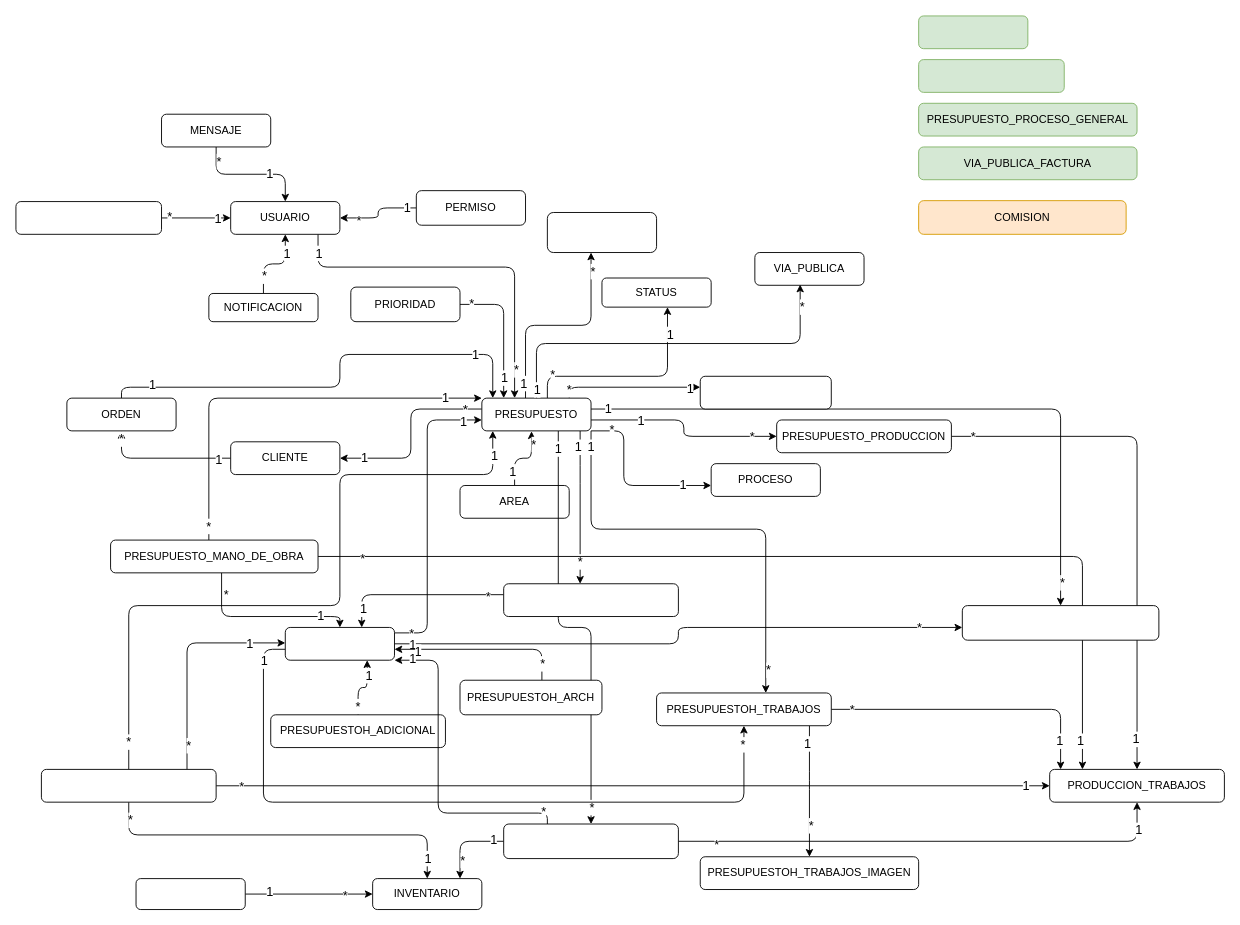
The diagram is 1240 pixels wide and 925 high, and some of its shapes have lost their labels. Here are the shapes that lost their labels. From the top down, the box of each, then its label:
(918, 15, 1028, 49): ORDENH
(918, 59, 1064, 92): ORDENH_DEPRECATED
(15, 201, 162, 234): MENSAJE_VIA_PUBLICA
(546, 212, 657, 253): FACTURA
(699, 375, 831, 409): PROCESO_GENERAL
(503, 583, 678, 617): PRESUPUESTOH_CONCEPTOS
(961, 605, 1159, 640): PRESUPUESTO_TRABAJO_CAMPO
(284, 627, 394, 660): PRESUPUESTOH
(40, 768, 216, 802): PRESUPUESTO_MATERIALES
(503, 823, 678, 859): PRESUPUESTO_SUMINISTRO
(135, 878, 245, 910): CATEGORIA
